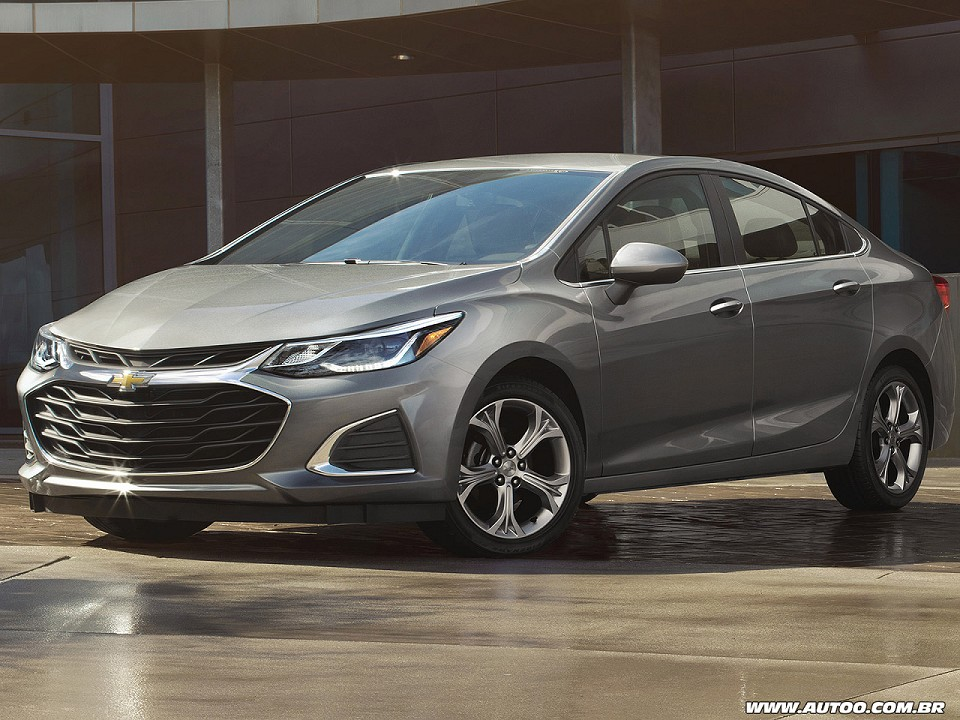Carro: (15, 133, 959, 581)
